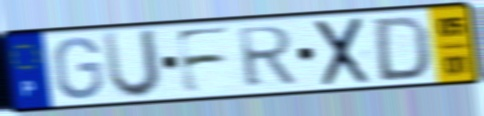D: (374, 13, 432, 84)
F: (172, 24, 233, 96)
G: (52, 35, 106, 102)
R: (235, 23, 300, 91)
U: (100, 27, 164, 102)
X: (313, 14, 372, 89)
